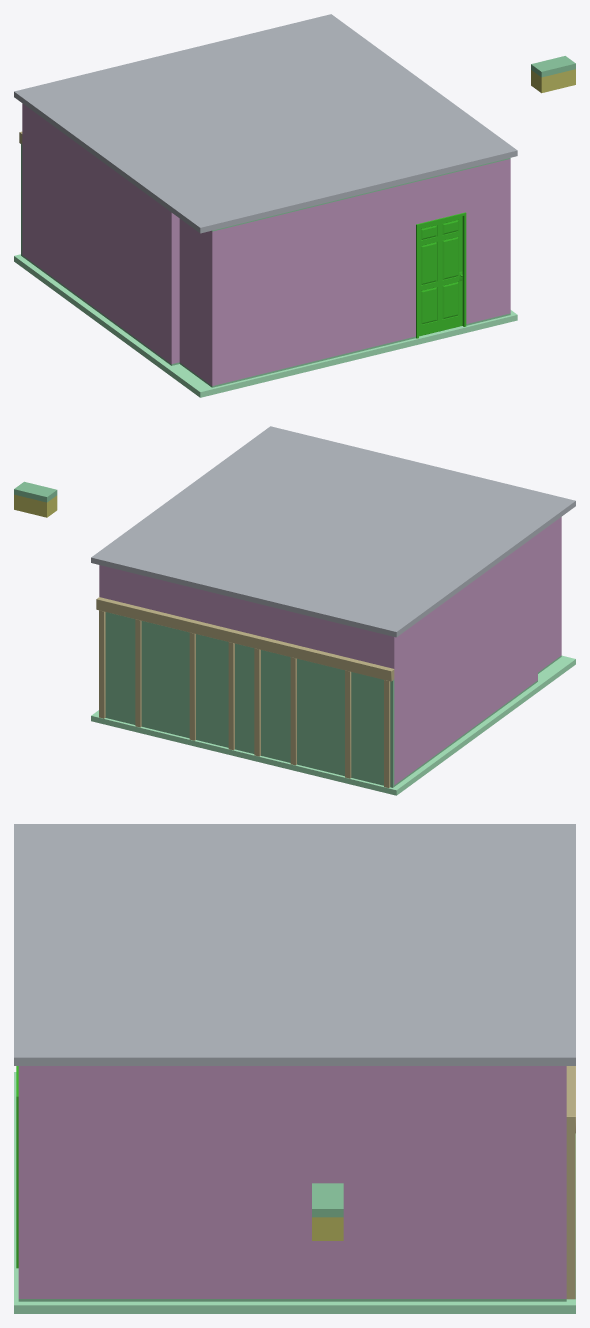
File: FloorPlan10.fbx
3 views of the same model, one above another, from view 1: azimuth 30°, elevation 25°; view 2: azimuth 150°, elevation 25°; view 3: azimuth 270°, elevation 25° (orthographic). The views are drawn at different scales.
Parts seen in each view (by area): view 1: StandardWallSize, Ceiling, Floor, StandardDoor1, StandardUpperCabinetWindow, StandardDoorFrame1; view 2: Ceiling, StandardWallSize, WindowGlass, WindowStructure, Floor, StandardUpperCabinetWindow; view 3: Ceiling, StandardWallSize, Floor, WindowStructure, StandardUpperCabinetWindow.
Part boxes in pixels (x1,y1,x2,y2): StandardWallSize: (22,103,510,387); Ceiling: (14,14,517,233); Floor: (14,254,517,397); StandardDoor1: (419,216,462,336); StandardUpperCabinetWindow: (531,56,575,93); StandardDoorFrame1: (416,212,466,338); Ceiling: (91,426,575,637); StandardWallSize: (99,517,561,786); WindowGlass: (105,612,394,787); WindowStructure: (96,597,394,787); Floor: (91,655,575,795); StandardUpperCabinetWindow: (14,481,57,517); Ceiling: (14,824,575,1065); StandardWallSize: (18,1066,566,1301); Floor: (14,1072,575,1313); WindowStructure: (566,1066,575,1299); StandardUpperCabinetWindow: (312,1183,343,1240).
Bounding box in the file's own units: 882 × 302 × 600.
